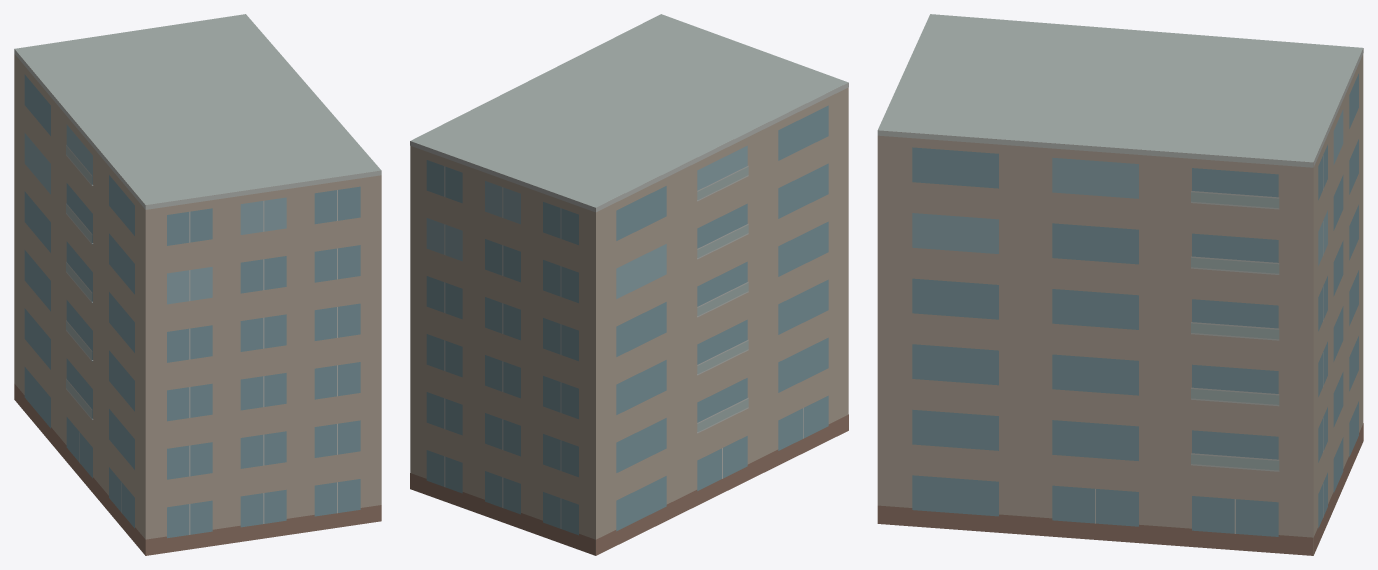
File: survey-upis-33027692.glb
3 renders of one model, left to right at view 1: azimuth 30°, elevation 25°; view 2: azimuth 150°, elevation 25°; view 3: azimuth 270°, elevation 25°, orthographic. The views are drawn at different scales.
Parts seen in each view (by area): view 1: survey-upis-33027692.tmp; view 2: survey-upis-33027692.tmp; view 3: survey-upis-33027692.tmp.
Part boxes in pixels (x1,y1,x2,y2): survey-upis-33027692.tmp: (14, 14, 381, 555); survey-upis-33027692.tmp: (410, 14, 848, 555); survey-upis-33027692.tmp: (877, 14, 1363, 555).
Bounding box in the file's own units: 14.65 × 18.1 × 20.27.
